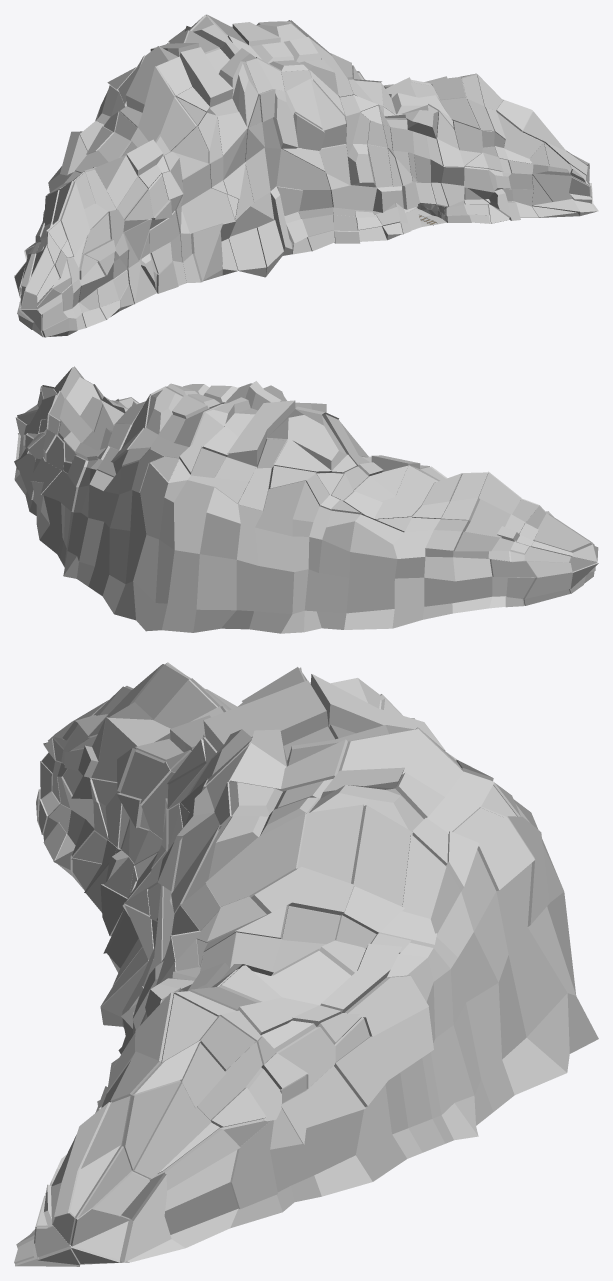
Rendered from mine_model_outside.fbx.
3 views of the same model, one above another, from view 1: azimuth 30°, elevation 25°; view 2: azimuth 150°, elevation 25°; view 3: azimuth 270°, elevation 25° (orthographic). The views are drawn at different scales.
Visible parts, largest first — view 1: mine; view 2: mine; view 3: mine.
Boxes of the visible parts, x1,y1,x2,y2 form: mine: (14,14,598,337); mine: (14,366,598,633); mine: (14,662,598,1266).
Bounding box in the file's own units: 561 × 179 × 289.
